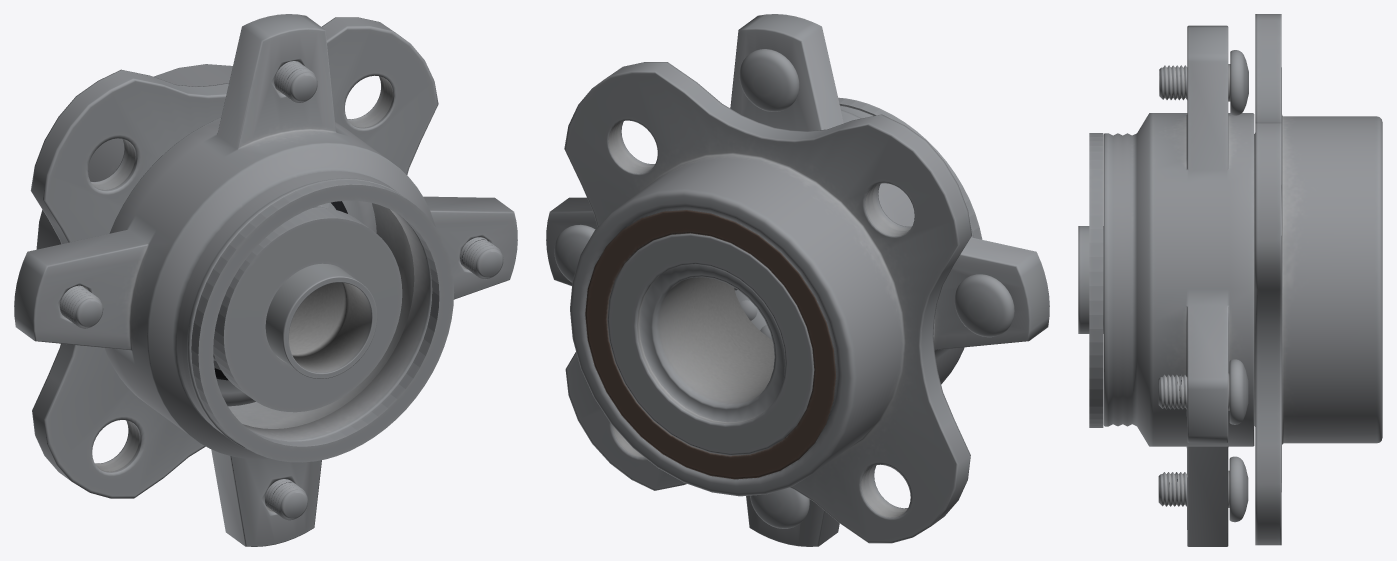
Rendered from hub_3.1 1.fbx.
3 renders of one model, left to right at view 1: azimuth 30°, elevation 25°; view 2: azimuth 150°, elevation 25°; view 3: azimuth 270°, elevation 25°, orthographic.
Parts seen in each view (by area): view 1: Outer ring, Inner ring, B1 ring, Seal, Bolt.002, Bolt.001, Bolt.004, Bolt.003; view 2: Inner ring, Outer ring, Bolt.002, Bolt.004, Bolt.003, Bolt.001, Seal; view 3: Outer ring, Inner ring, Seal, Bolt.001, Bolt.004, Bolt.003.
Boxes of the visible parts, bbox=[...] form: Outer ring: bbox=[14, 14, 517, 546]; Inner ring: bbox=[30, 17, 438, 498]; B1 ring: bbox=[213, 207, 402, 412]; Seal: bbox=[191, 179, 454, 462]; Bolt.002: bbox=[60, 285, 103, 328]; Bolt.001: bbox=[460, 237, 503, 279]; Bolt.004: bbox=[274, 61, 317, 102]; Bolt.003: bbox=[265, 479, 307, 520]; Inner ring: bbox=[564, 62, 971, 543]; Outer ring: bbox=[546, 14, 1049, 546]; Bolt.002: bbox=[954, 274, 1014, 337]; Bolt.004: bbox=[739, 49, 799, 111]; Bolt.003: bbox=[750, 487, 809, 528]; Bolt.001: bbox=[554, 224, 595, 282]; Seal: bbox=[838, 97, 982, 239]; Outer ring: bbox=[1103, 25, 1254, 546]; Inner ring: bbox=[1078, 14, 1382, 545]; Seal: bbox=[1089, 133, 1103, 427]; Bolt.001: bbox=[1158, 359, 1248, 424]; Bolt.004: bbox=[1159, 50, 1248, 115]; Bolt.003: bbox=[1158, 456, 1248, 522].
Bounding box in the file's own units: 267 × 269 × 146.
